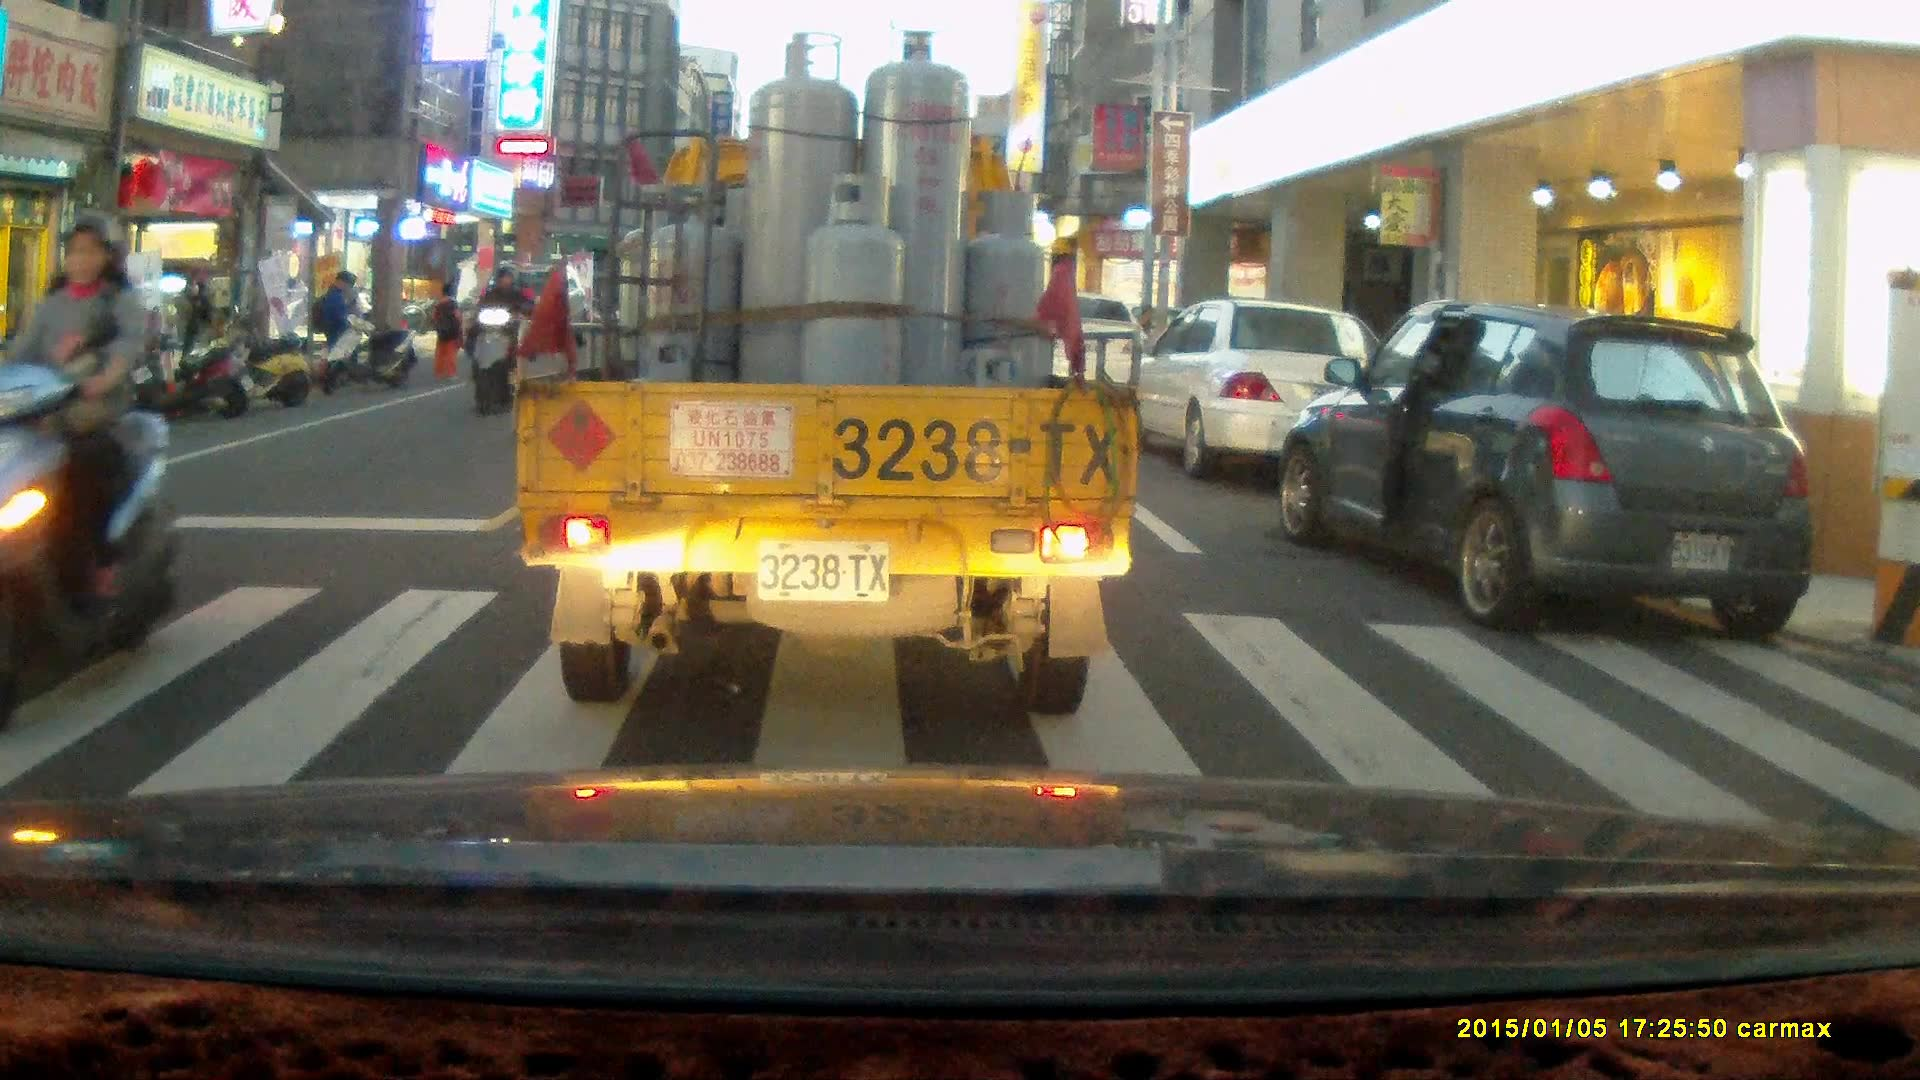pedestrian: (317, 269, 353, 384), (169, 277, 204, 386), (428, 281, 466, 379)
rider: (1, 207, 179, 707), (467, 265, 528, 414)
vehicle: (519, 64, 1135, 715), (1280, 306, 1822, 646), (1122, 301, 1387, 482), (1026, 295, 1160, 413), (461, 269, 585, 363)
